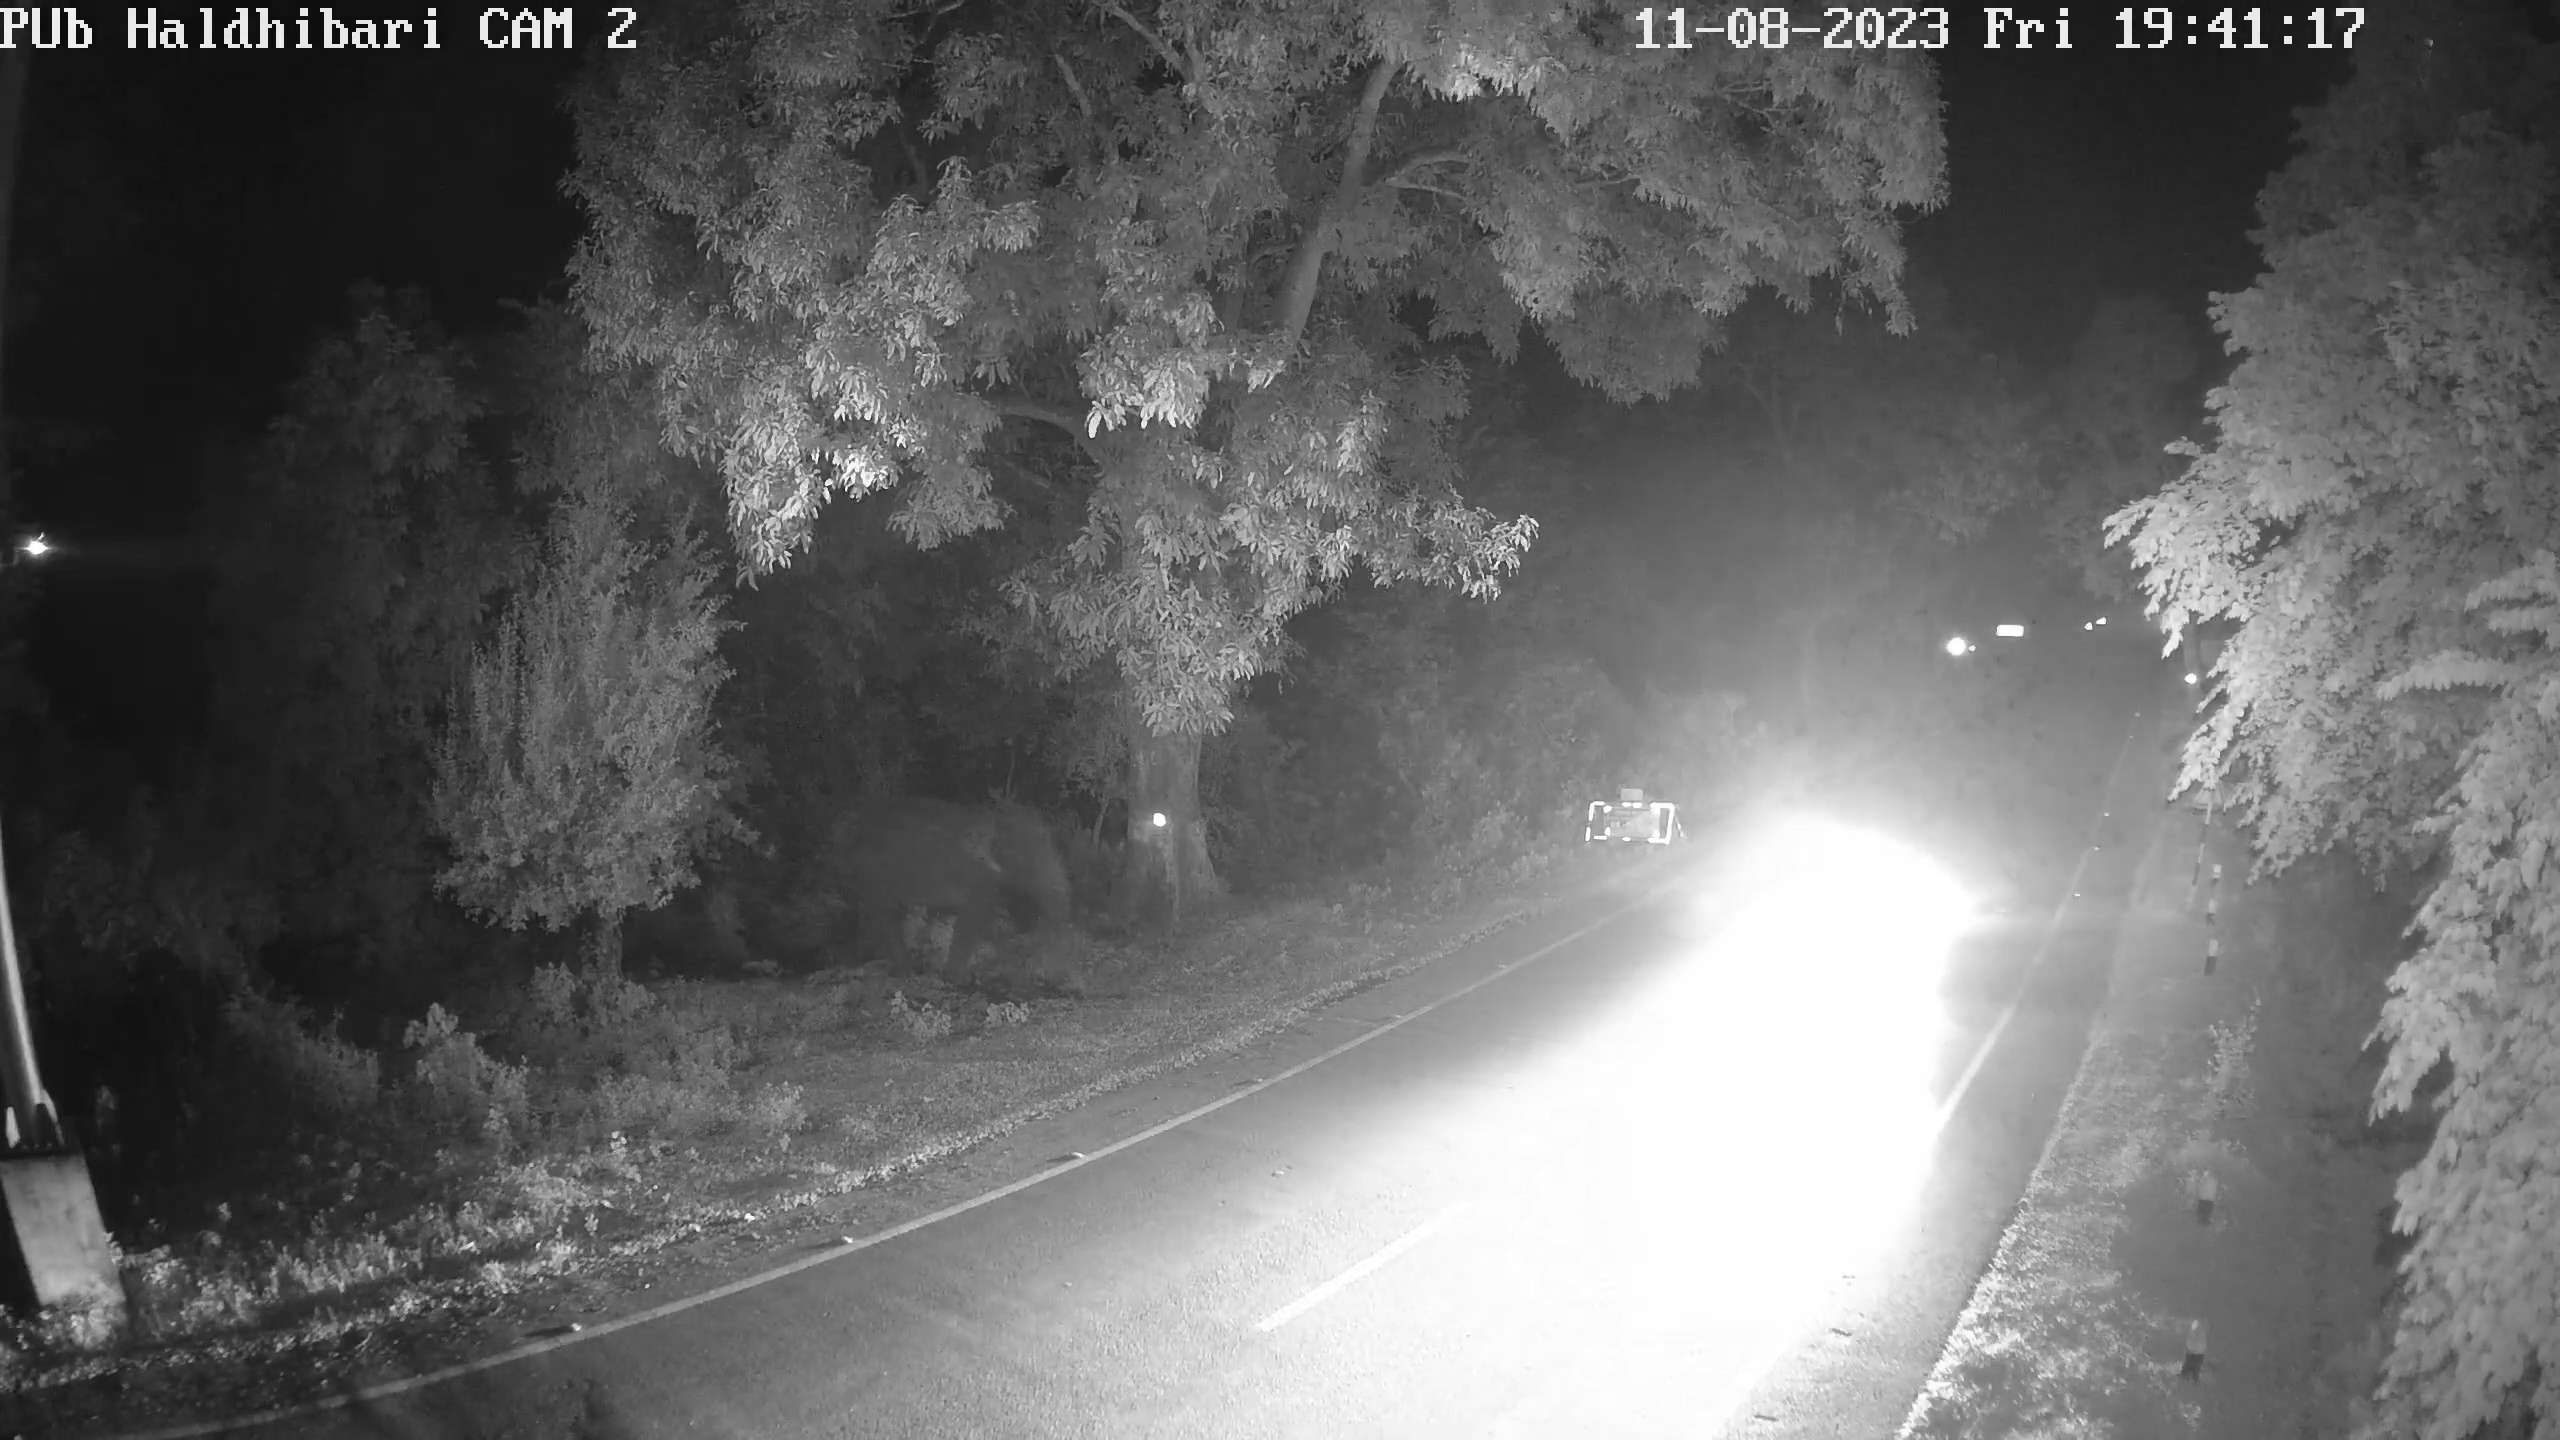elephants: (846, 795, 1078, 976)
